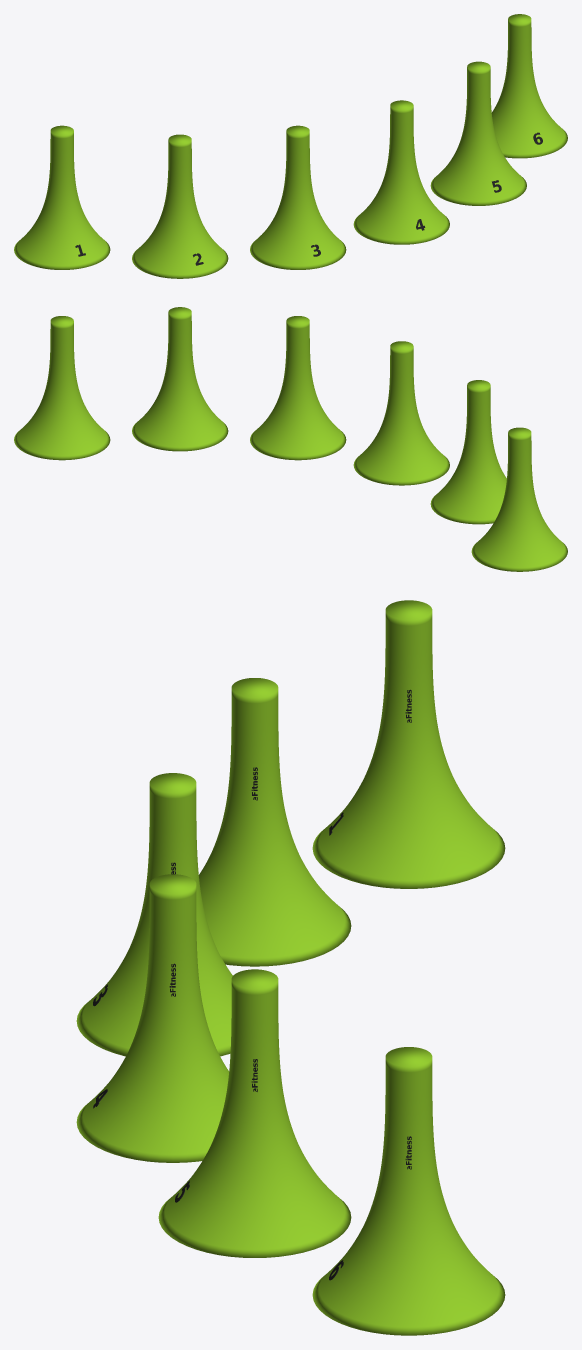
The model's file is life-fitness-speed-cones-set-of-6_v004.glb.
The picture shows the model from 3 angles, top to bottom: view 1: azimuth 30°, elevation 25°; view 2: azimuth 150°, elevation 25°; view 3: azimuth 270°, elevation 25°; orthographic projection. The views are drawn at different scales.
Parts seen in each view (by area): view 1: life-fitness-speed-cones-set-of-6_lime, life-fitness-speed-cones-set-of-6_ink; view 2: life-fitness-speed-cones-set-of-6_lime; view 3: life-fitness-speed-cones-set-of-6_lime, life-fitness-speed-cones-set-of-6_ink.
Part boxes in pixels (bbox=[...]): life-fitness-speed-cones-set-of-6_lime: bbox=[14, 14, 567, 278]; life-fitness-speed-cones-set-of-6_ink: bbox=[75, 132, 542, 265]; life-fitness-speed-cones-set-of-6_lime: bbox=[14, 307, 567, 571]; life-fitness-speed-cones-set-of-6_lime: bbox=[76, 600, 505, 1335]; life-fitness-speed-cones-set-of-6_ink: bbox=[93, 689, 411, 1280].
Size of the model in its own units: 1.09 by 0.2286 by 0.3729.
